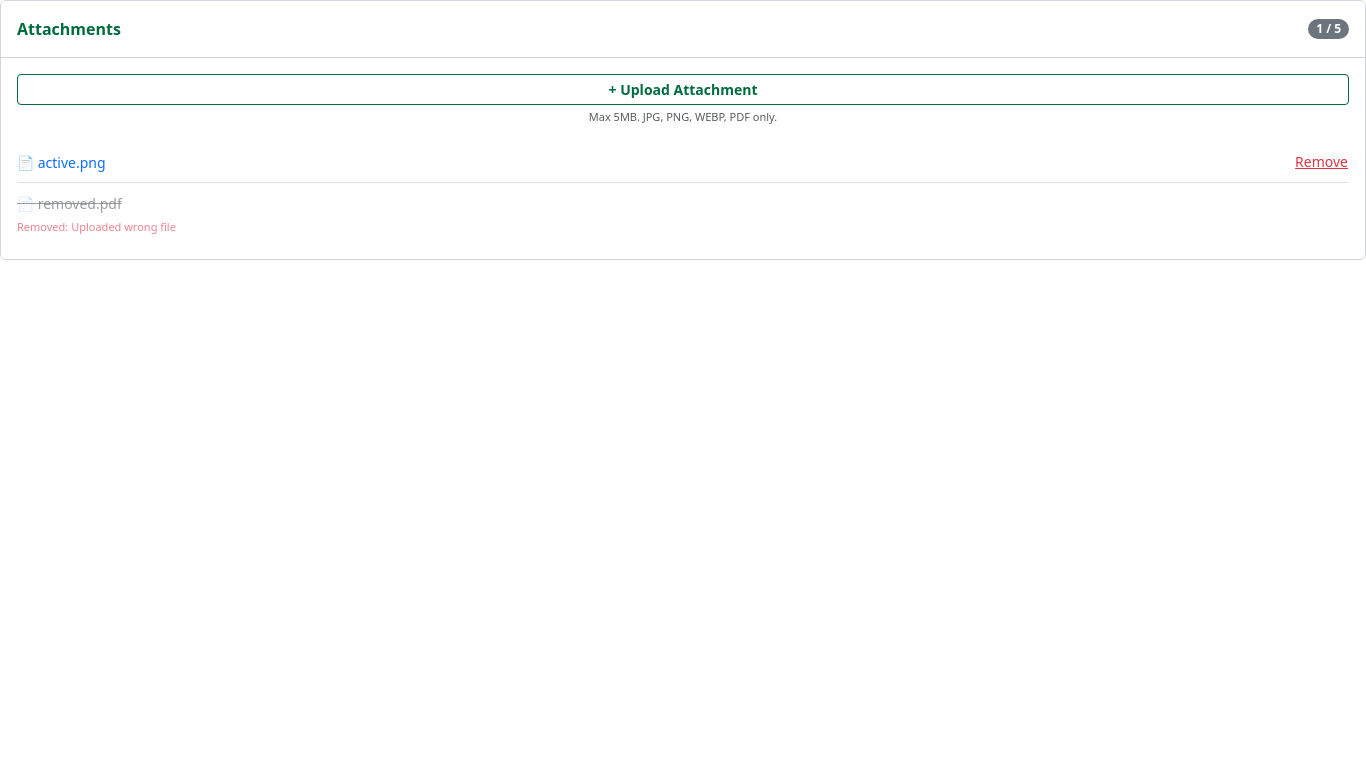
AttachmentSection Component › should show remove modal when clicking remove
Click the button "Remove" at (1322, 162), box [1294,150,1349,173]
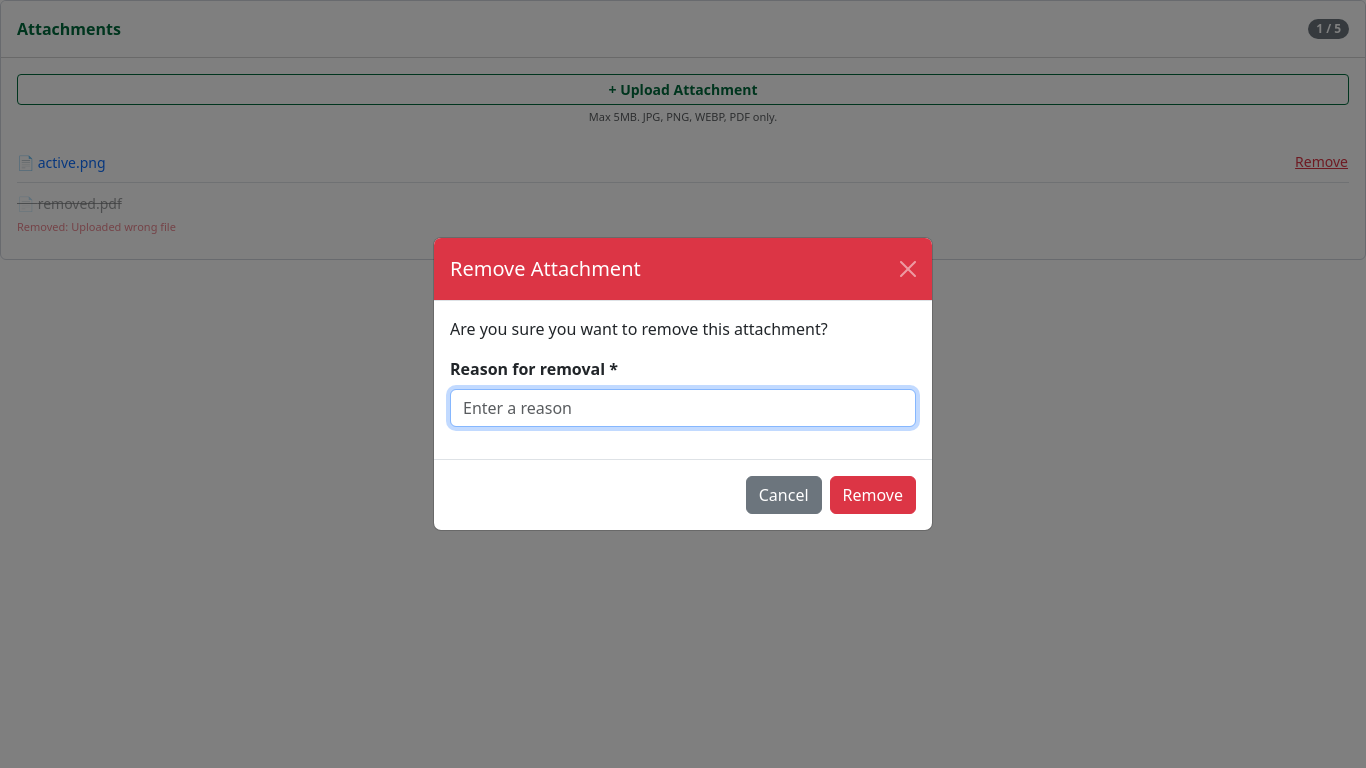
Expected: the text "Are you sure you want to remove this attachment?" is shown, [450,318,828,340]
